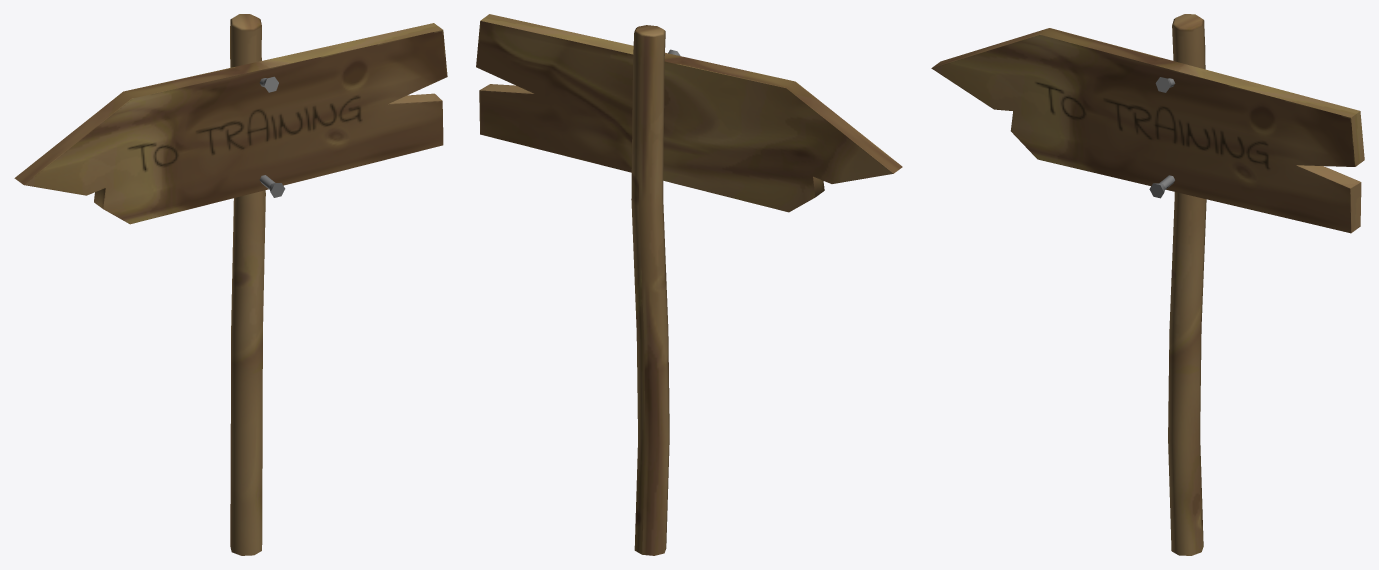
File: SignToTraining.fbx
3 renders of one model, left to right at view 1: azimuth 30°, elevation 25°; view 2: azimuth 150°, elevation 25°; view 3: azimuth 330°, elevation 25°, orthographic.
Parts seen in each view (by area): view 1: SignToTraining; view 2: SignToTraining; view 3: SignToTraining.
Part boxes in pixels (x1,y1,x2,y2): SignToTraining: [14, 14, 447, 555]; SignToTraining: [476, 14, 902, 555]; SignToTraining: [931, 14, 1364, 555].
Size of the model in its own units: 73.87 by 88.23 by 12.28.
